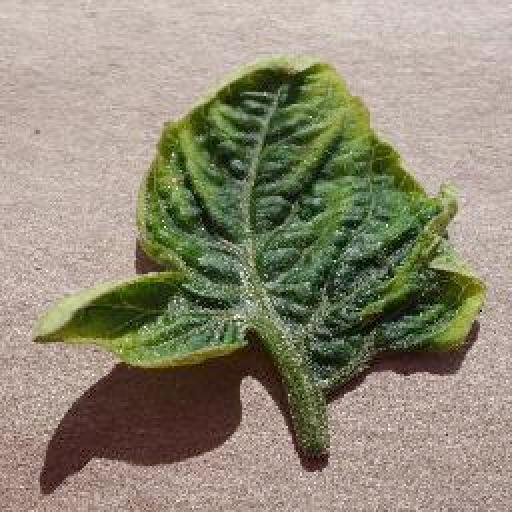disease_tomato: (32, 56, 492, 386)
